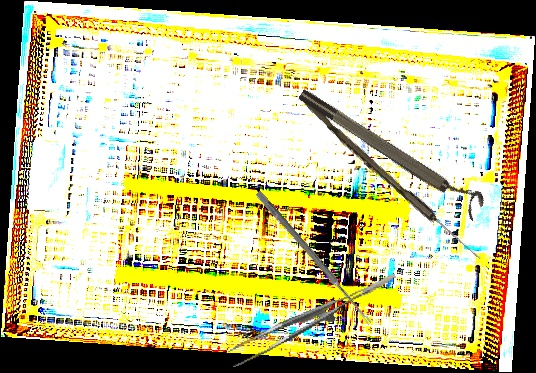Fixation Ring: (295, 78, 489, 221)
Surgical Spoon: (300, 100, 485, 263), (254, 190, 374, 326)
Tissue Forceps: (221, 273, 407, 368)
